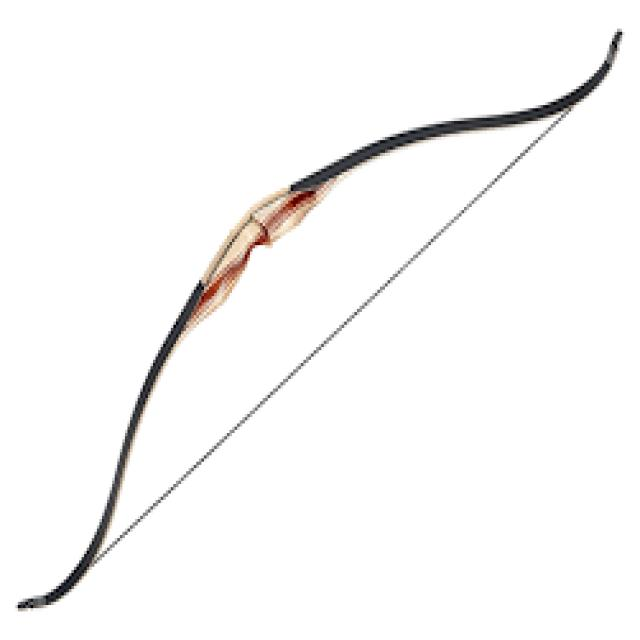X-Bow: (19, 30, 623, 612)
